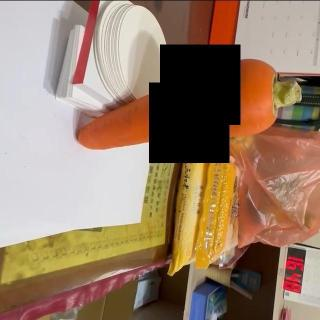carrot: (75, 58, 303, 150)
